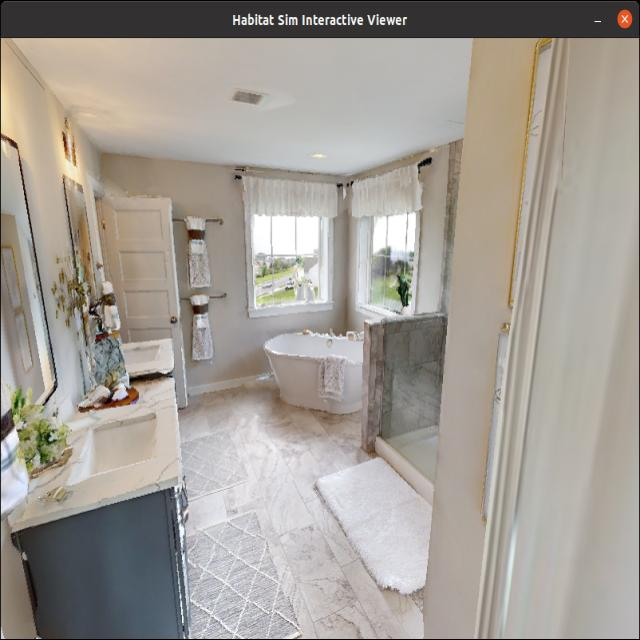door: (111, 189, 178, 430)
sink: (17, 370, 181, 530), (80, 329, 200, 392)
